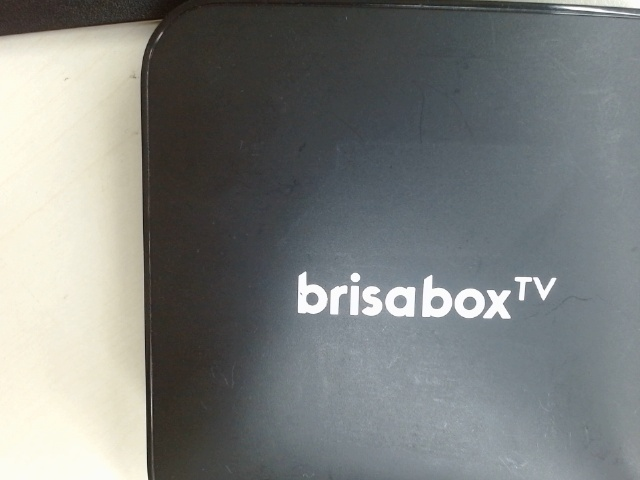AH_brisabox: (292, 254, 562, 330)
